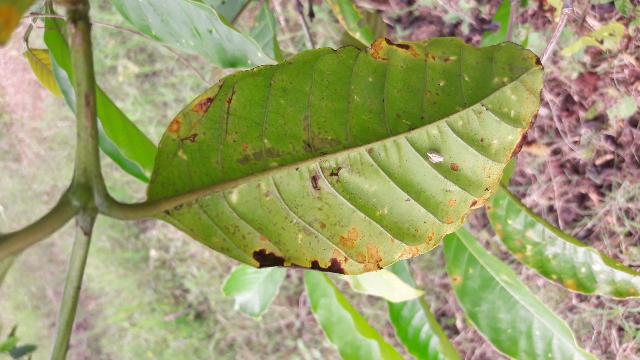rust_level_4: (145, 38, 543, 269)
